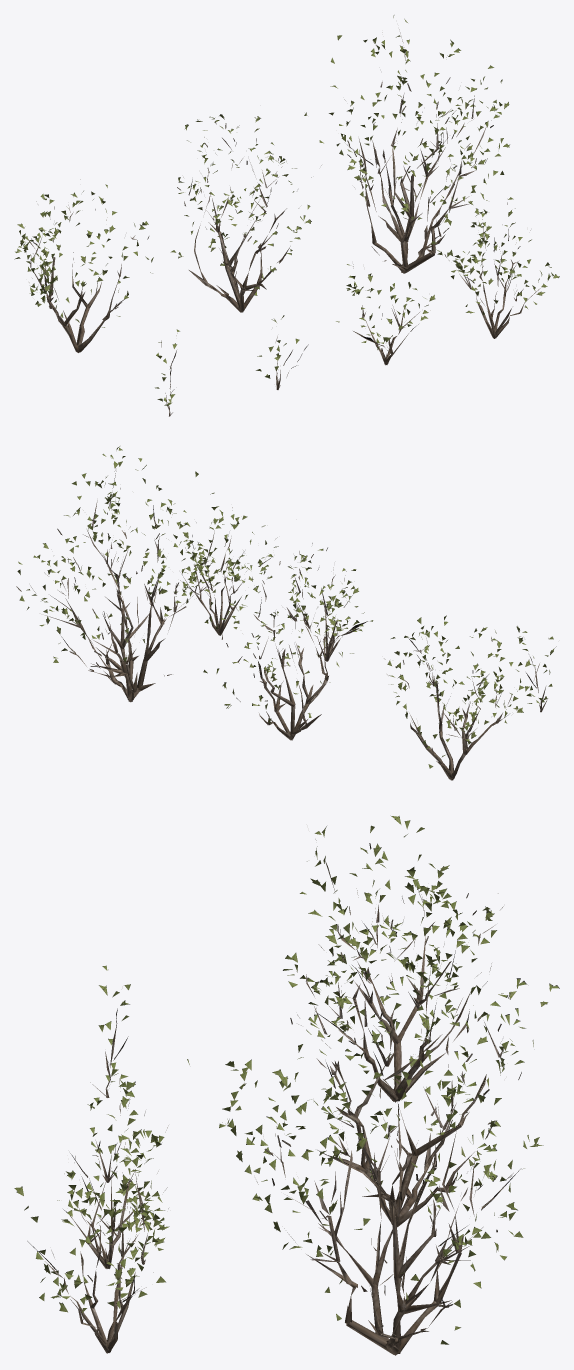
Rendered from scrub_tree.glb.
3 renders of one model, top to bottom at view 1: azimuth 30°, elevation 25°; view 2: azimuth 150°, elevation 25°; view 3: azimuth 270°, elevation 25°, orthographic. The views are drawn at different scales.
Visible parts, largest first — view 1: searsia_lucida_a_LOD0, searsia_lucida_b_LOD0, searsia_lucida_c_LOD0, searsia_lucida_d_LOD0, searsia_lucida_e_LOD0; view 2: searsia_lucida_a_LOD0, searsia_lucida_b_LOD0, searsia_lucida_c_LOD0, searsia_lucida_d_LOD0, searsia_lucida_e_LOD0; view 3: searsia_lucida_a_LOD0, searsia_lucida_b_LOD0, searsia_lucida_c_LOD0, searsia_lucida_d_LOD0, searsia_lucida_e_LOD0.
Boxes of the visible parts, x1,y1,x2,y2 form: searsia_lucida_a_LOD0: (304,15,509,273); searsia_lucida_b_LOD0: (177,114,321,312); searsia_lucida_c_LOD0: (14,179,175,352); searsia_lucida_d_LOD0: (436,181,559,338); searsia_lucida_e_LOD0: (336,264,435,365); searsia_lucida_a_LOD0: (16,446,248,702); searsia_lucida_b_LOD0: (203,543,358,740); searsia_lucida_c_LOD0: (384,615,556,780); searsia_lucida_d_LOD0: (166,492,277,635); searsia_lucida_e_LOD0: (285,569,373,661); searsia_lucida_a_LOD0: (187,954,543,1355); searsia_lucida_b_LOD0: (283,888,559,1227); searsia_lucida_c_LOD0: (287,816,503,1102); searsia_lucida_d_LOD0: (14,1110,169,1353); searsia_lucida_e_LOD0: (63,1074,168,1268).
Size of the model in its own units: 4.59 by 2.22 by 2.74.
Materials: 2 (2 with a texture image).
